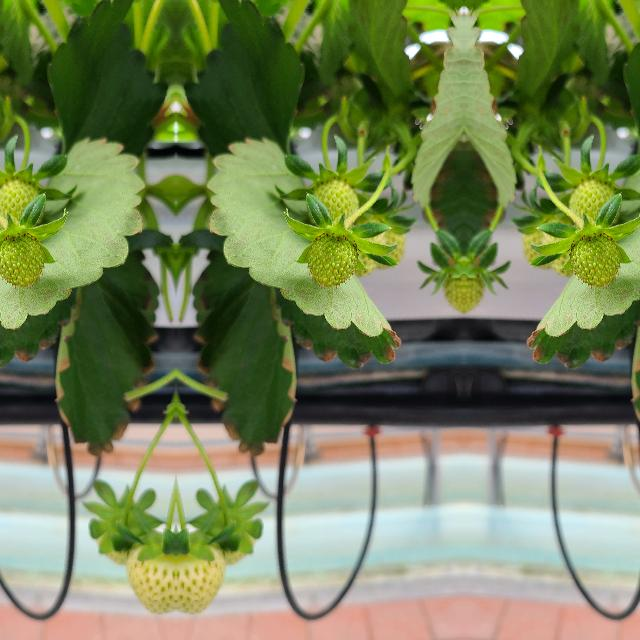Health_25: (174, 538, 226, 618), (124, 538, 176, 618), (304, 174, 364, 232), (562, 174, 622, 232), (0, 174, 45, 231), (307, 238, 357, 286), (569, 238, 619, 286), (0, 237, 43, 286)
